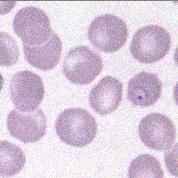Infected: (127, 71, 161, 106)
Uninfected: (87, 13, 128, 54), (55, 107, 96, 147), (130, 24, 170, 64), (62, 46, 103, 85), (12, 5, 51, 45), (23, 30, 62, 70), (9, 71, 44, 113), (138, 112, 176, 150), (7, 107, 47, 142), (88, 75, 121, 115), (0, 140, 27, 178), (127, 153, 164, 178)
